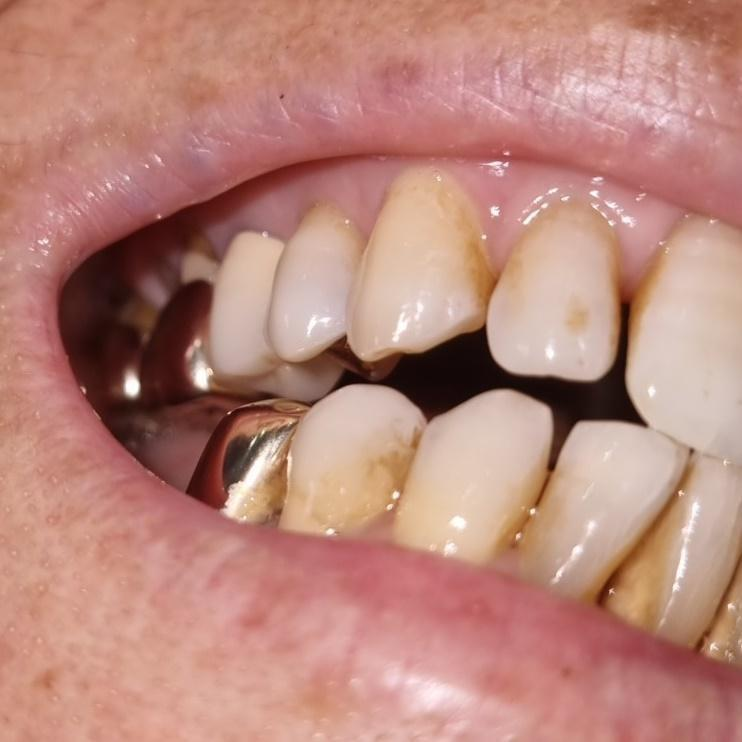Crowding: (562, 417, 741, 611)
Gap: (489, 217, 742, 385)
